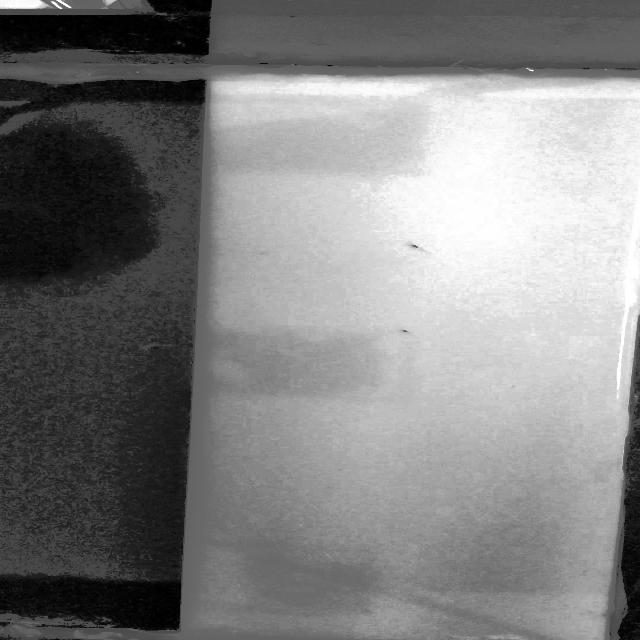shrimp: (407, 240, 445, 256), (394, 324, 426, 338)
